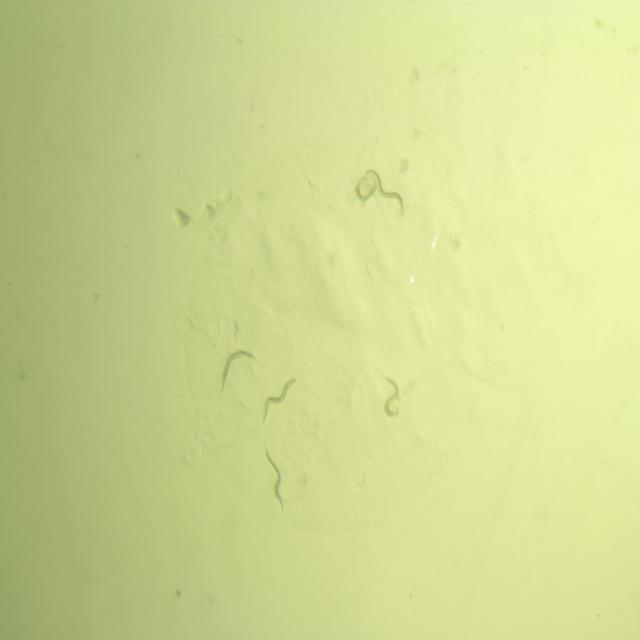worm: (258, 372, 300, 428), (364, 168, 407, 222), (216, 346, 259, 398), (262, 442, 289, 515), (379, 374, 402, 422), (353, 172, 380, 209)
